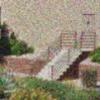stairs: (40, 49, 81, 80)
